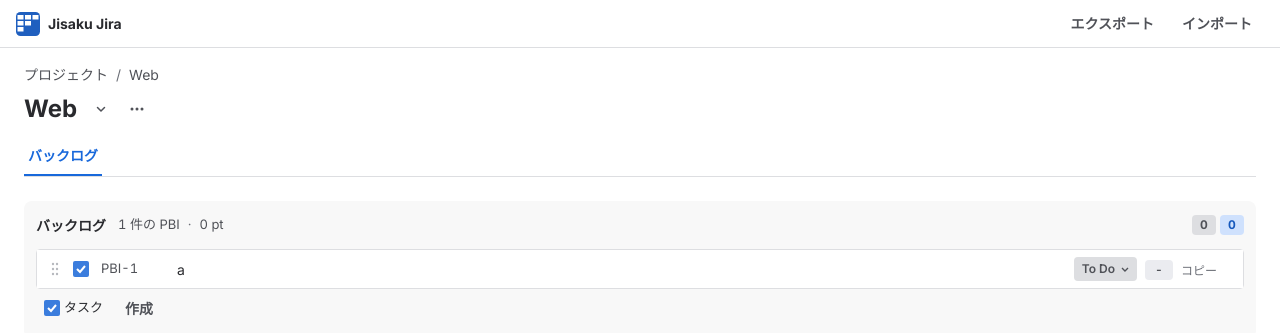
Test: プロジェクトの切り替え › メニューの外を押すと閉じる
Step 1. Click the button named "プロジェクトを切り替え" → (101, 109), box 85,93 -> 117,125
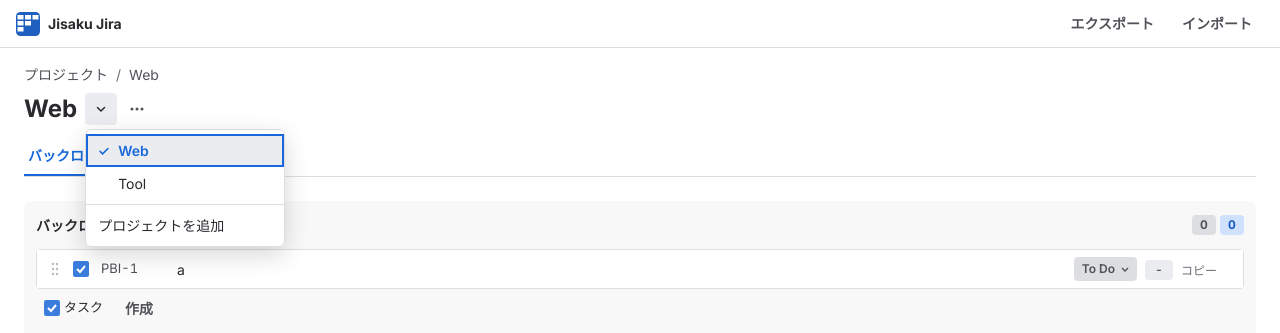
Step 2. Click the heading "Web" → (51, 109), box 24,93 -> 77,125
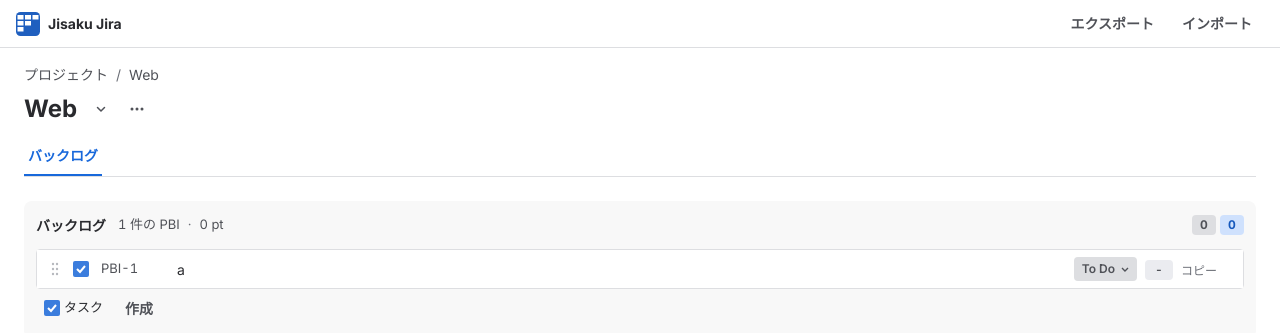
expect the text "Web" is shown: met, box 129,66 -> 159,83
expect the menu is gone: met
